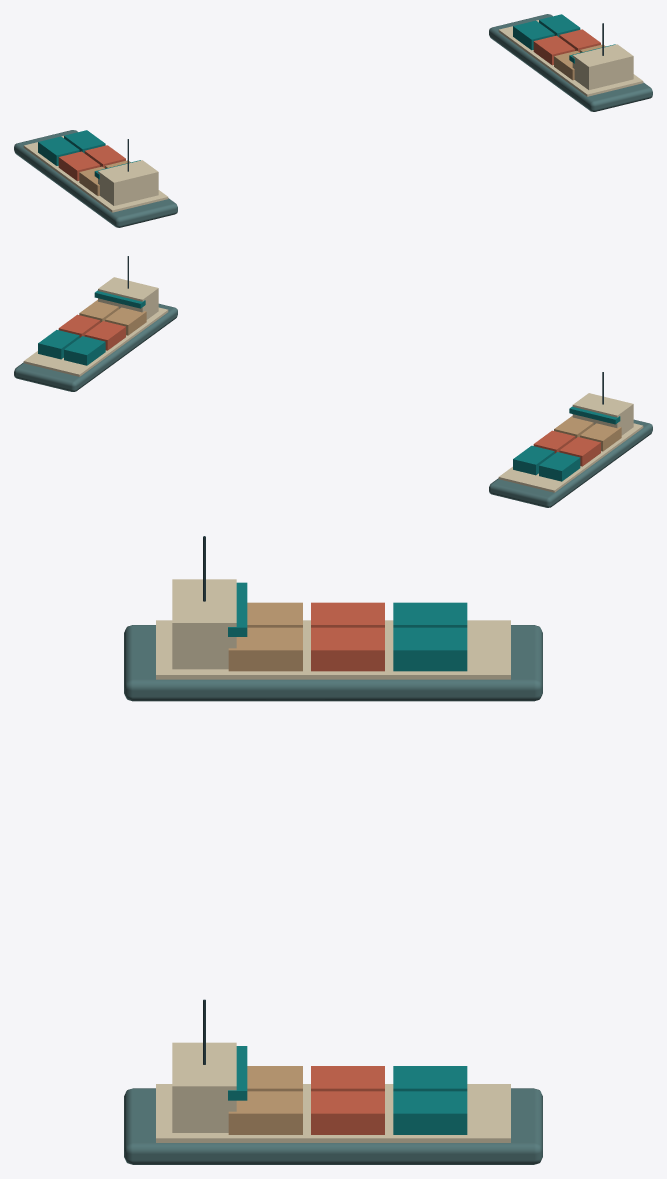
Rendered from harbor.glb.
3 views of the same model, one above another, from view 1: azimuth 30°, elevation 25°; view 2: azimuth 150°, elevation 25°; view 3: azimuth 270°, elevation 25° (orthographic). The views are drawn at different scales.
Parts seen in each view (by area): view 1: copper-quay-harbor; view 2: copper-quay-harbor; view 3: copper-quay-harbor.
Boxes of the visible parts, x1,y1,x2,y2 form: copper-quay-harbor: (14,14,652,227); copper-quay-harbor: (14,256,652,507); copper-quay-harbor: (124,536,542,1164).
Size of the model in its own units: 77 by 9.4 by 26.
